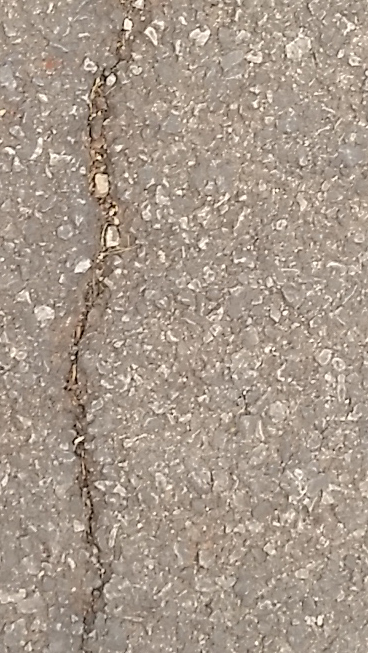A: (51, 9, 191, 646)
